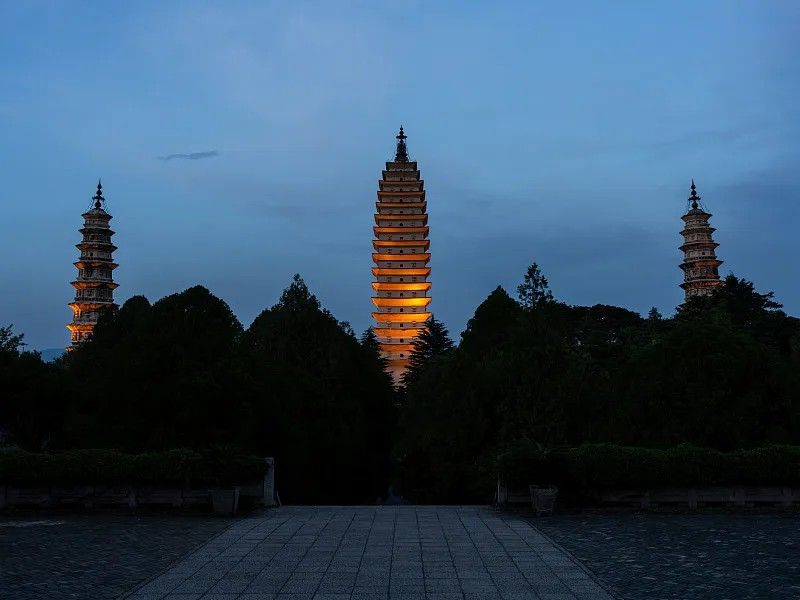ThreePagoda: (371, 125, 433, 385)
